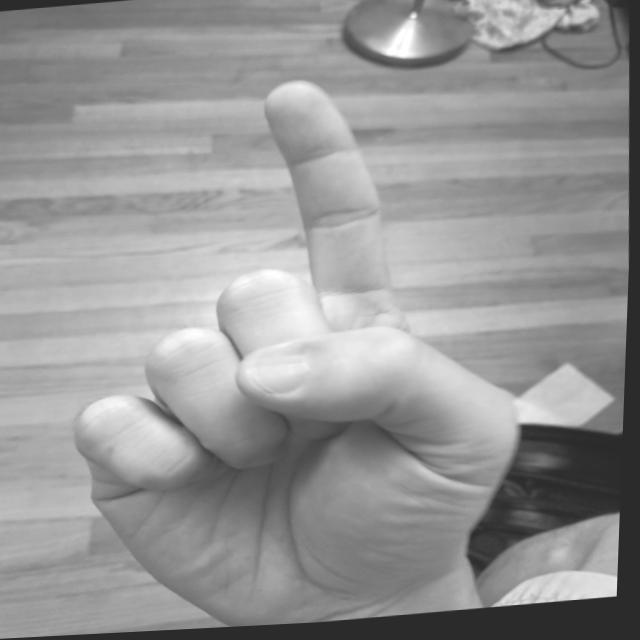D: (50, 58, 551, 636)
